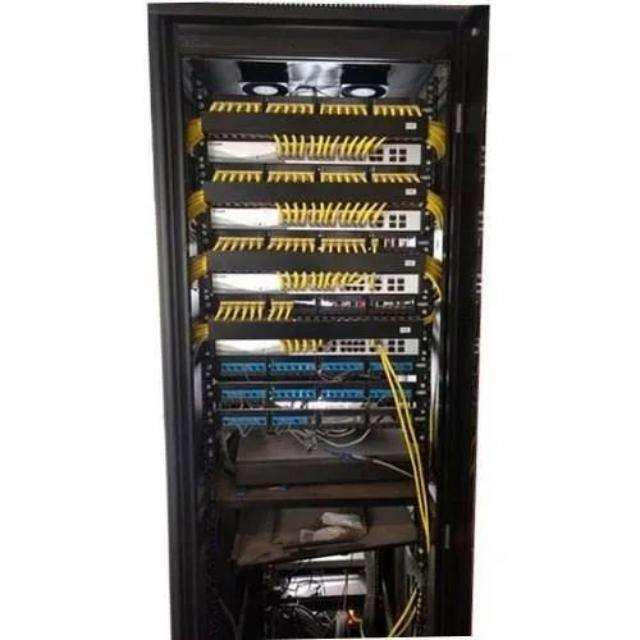Server: (140, 0, 488, 640)
